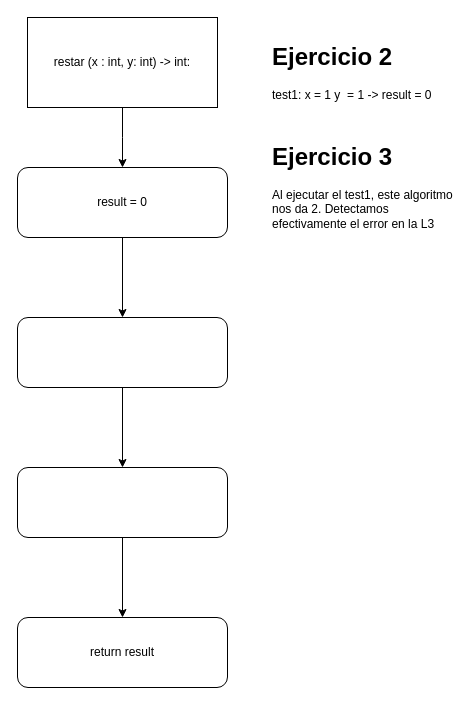
This 475x705 diagram has some shape labels left out. Each missing label, with the centre of its shape:
result = result + x: point (122, 352)
result = result + y: point (122, 502)
